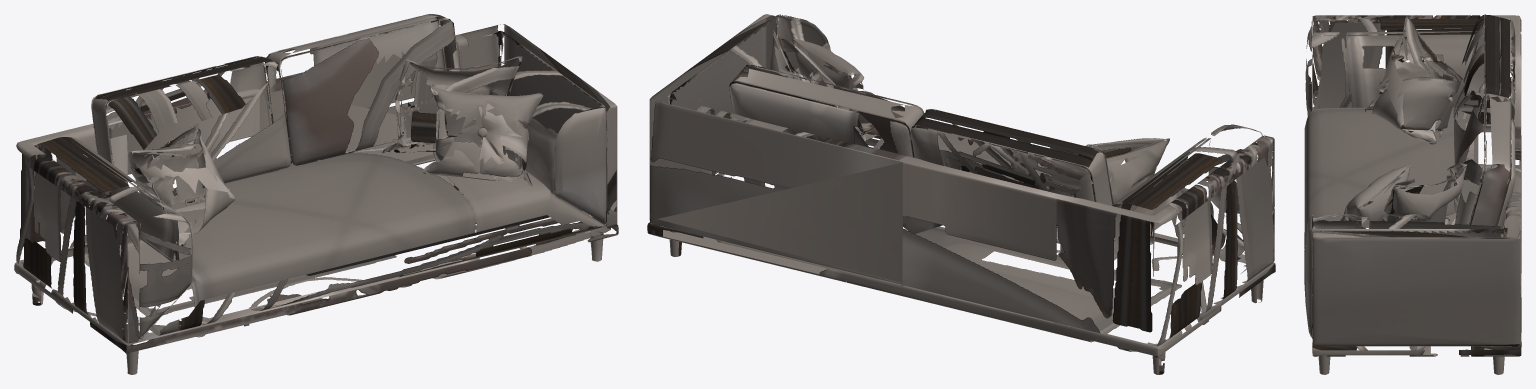
3 renders of one model, left to right at view 1: azimuth 30°, elevation 25°; view 2: azimuth 150°, elevation 25°; view 3: azimuth 270°, elevation 25°, orthographic. The views are drawn at different scales.
Parts seen in each view (by area): view 1: solid_001, solid_002; view 2: solid_001, solid_002; view 3: solid_001, solid_002.
Part boxes in pixels (x1,y1,x2,y2): solid_001: (14, 14, 618, 353); solid_002: (31, 231, 603, 374); solid_001: (647, 14, 1275, 357); solid_002: (669, 184, 1263, 374); solid_001: (1304, 14, 1521, 356); solid_002: (1318, 164, 1504, 374).
Size of the model in its own units: 2 by 0.7464 by 0.8192.
